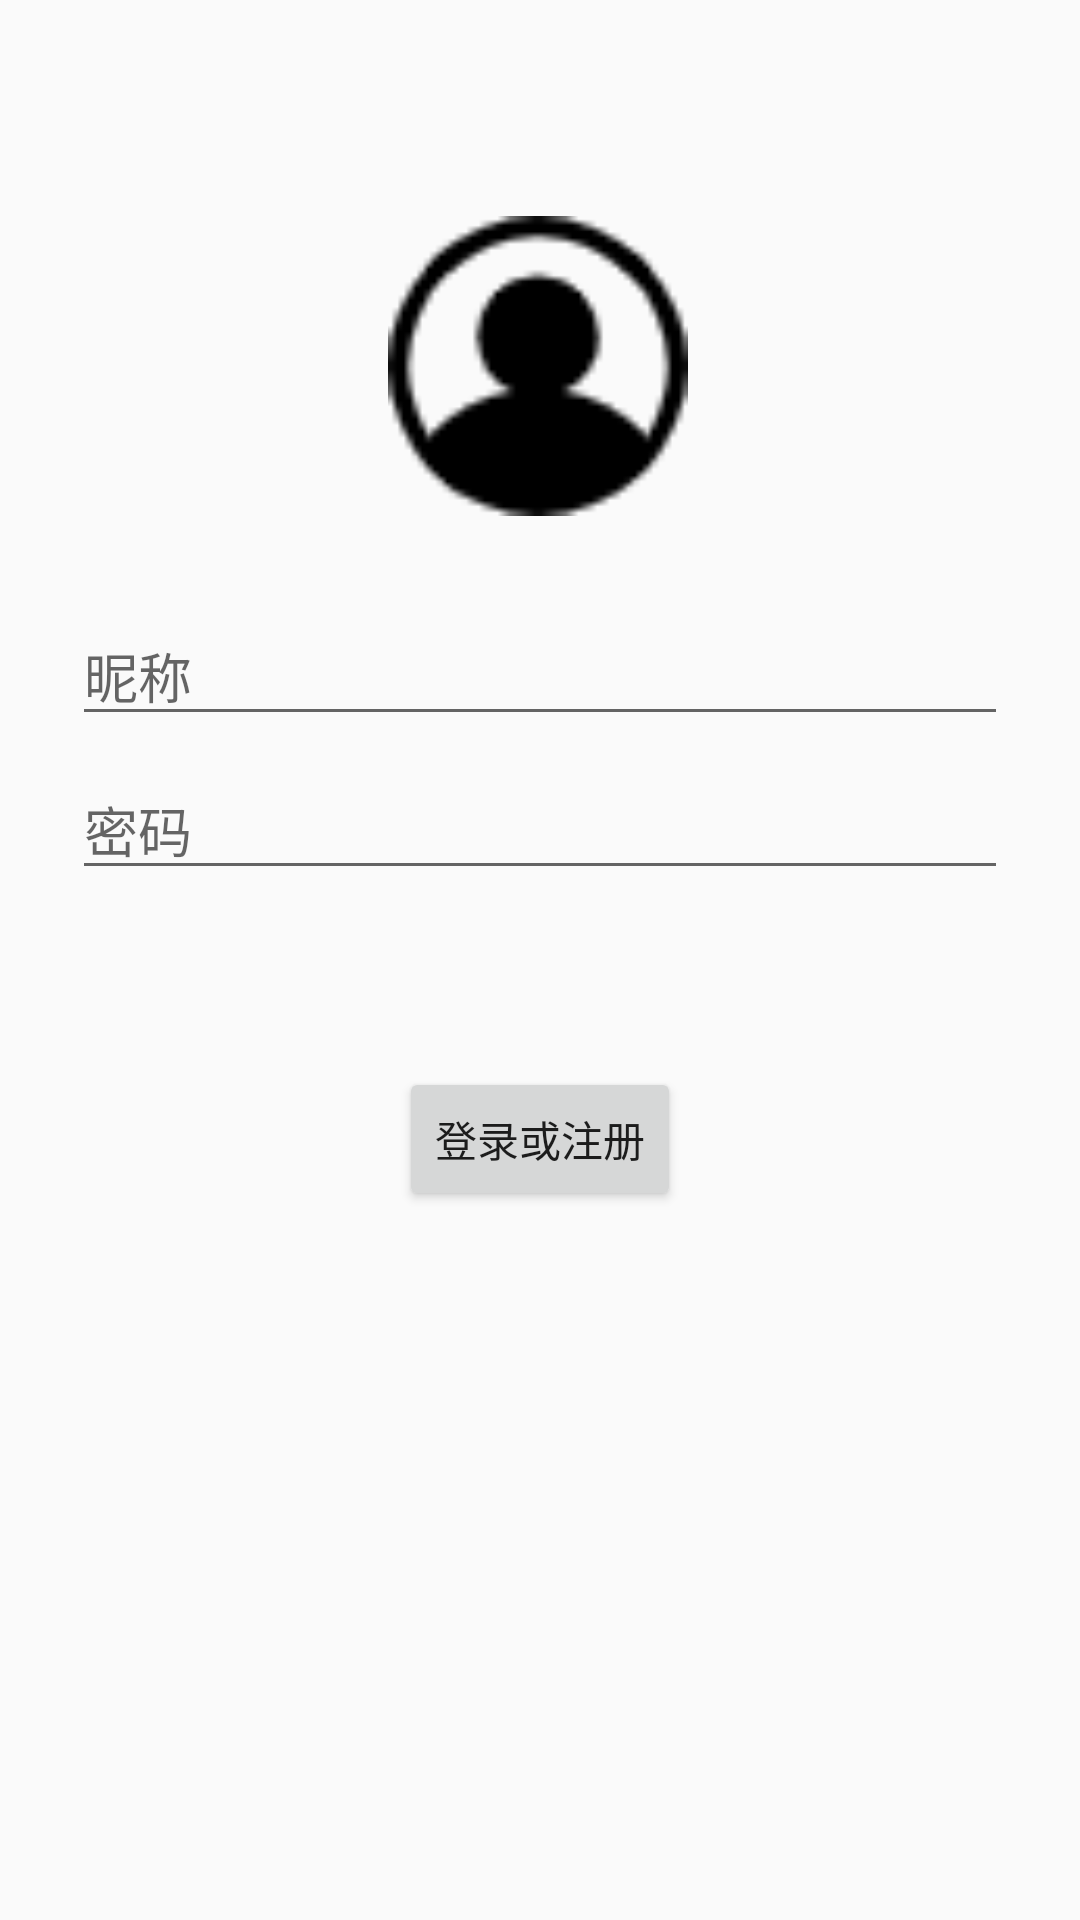

Icons on this 1080 x 1920 Android screen, each with its box as (x1,y1,x2,y2):
head: (388,216,688,516)
